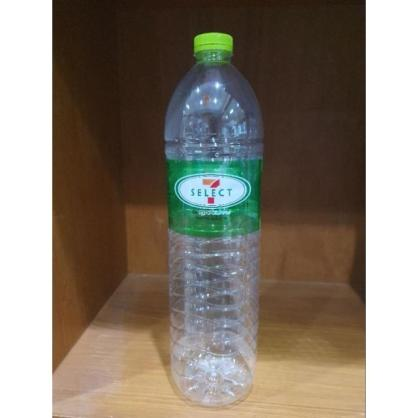bottle: (163, 32, 263, 410)
cap: (193, 35, 235, 60)
label: (164, 158, 260, 240)
